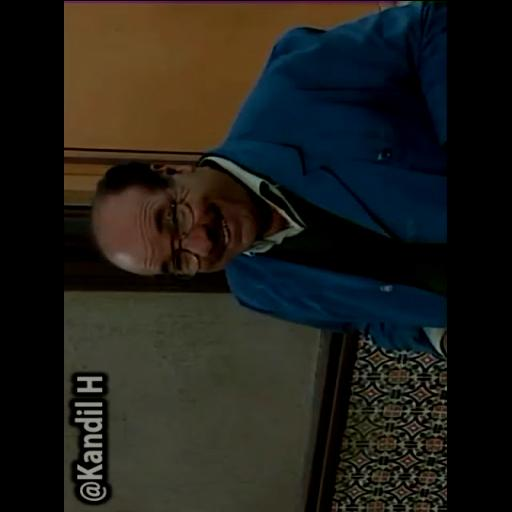beji_matrix: (92, 162, 258, 277)
